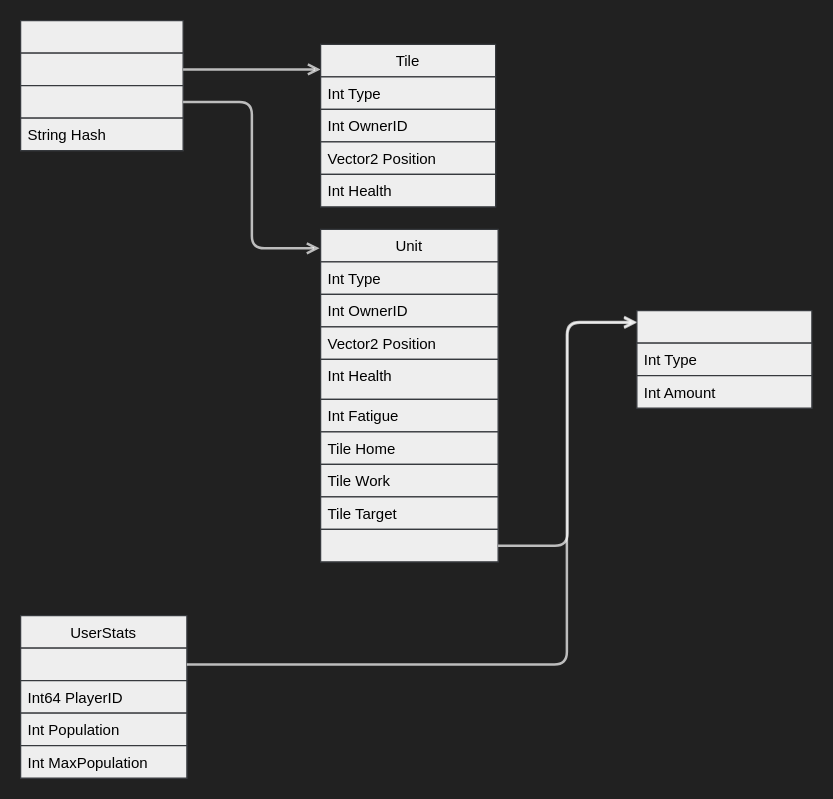
Image size: 833x799. Some labels were removed from this diagram. The shapes that lost their labels are listed below. From the top down, each one's box as (x1, y1, x2, y2) in pixels, then its label:
(19, 52, 183, 86): Tile[] Tiles
(19, 19, 183, 151): World
(19, 84, 183, 118): Unit[] Units
(636, 309, 812, 408): Resource
(319, 528, 498, 562): Resource HeldResource
(19, 647, 187, 681): Resource[] Resources
